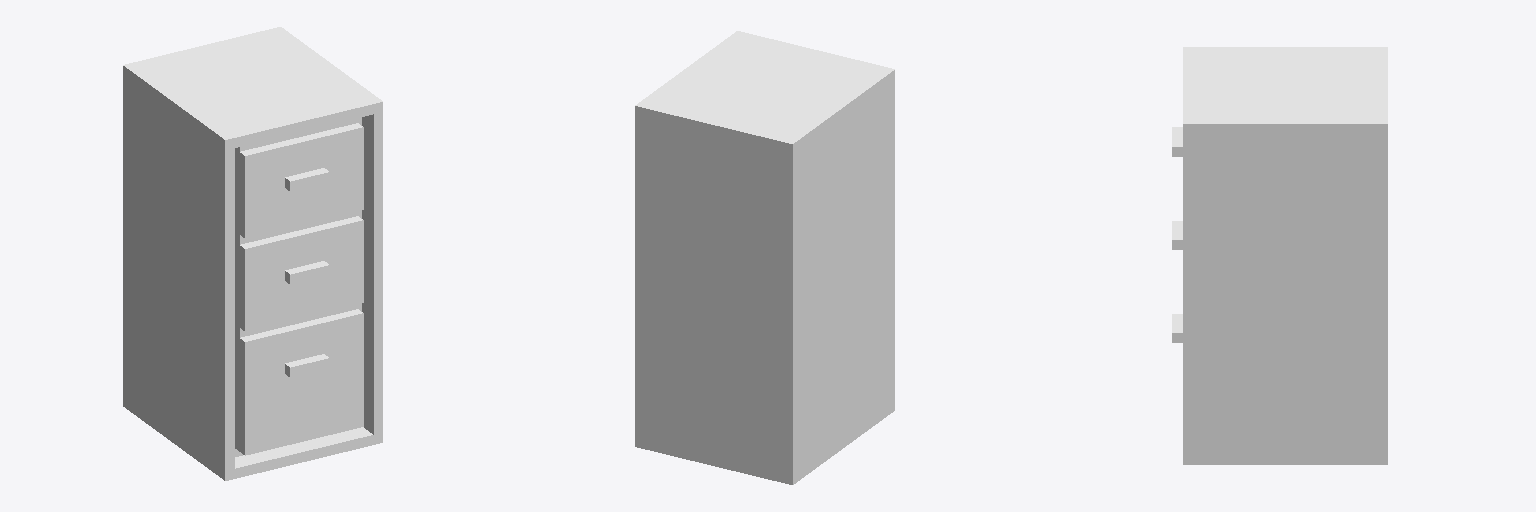
Rendered from cabinent.obj.
3 renders of one model, left to right at view 1: azimuth 30°, elevation 25°; view 2: azimuth 150°, elevation 25°; view 3: azimuth 270°, elevation 25°, orthographic.
Bounding box in the file's own units: 16 × 33 × 19.